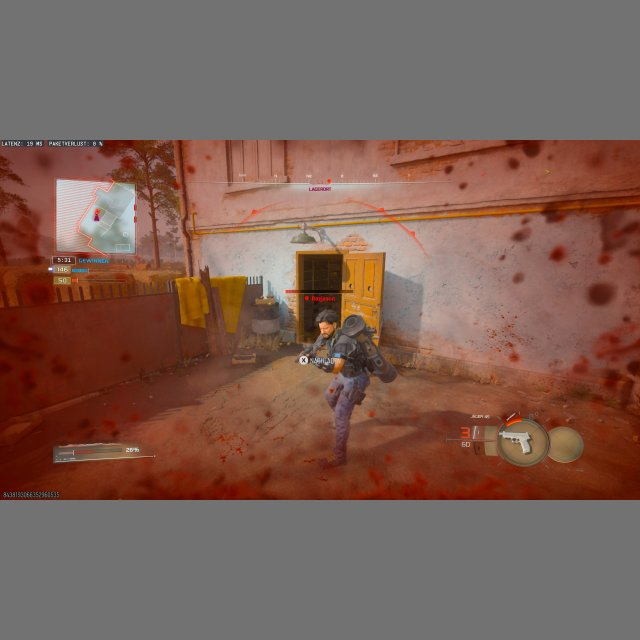head: (316, 310, 338, 337)
player: (299, 309, 393, 467)
